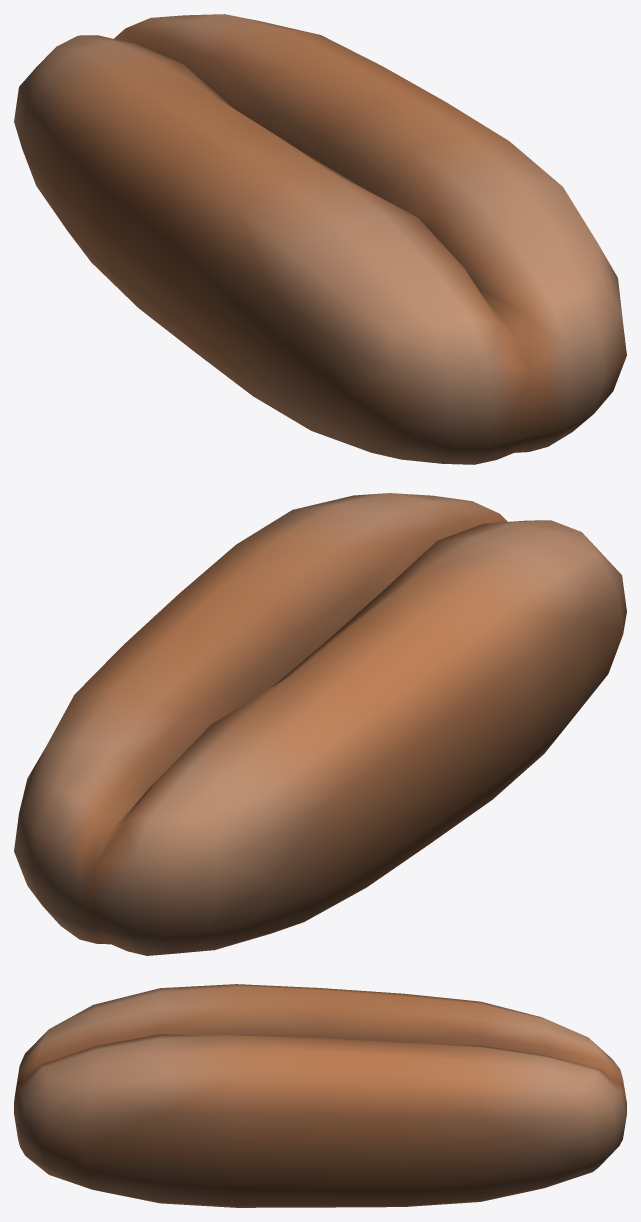
File: trees-seeds-nuts-wheat-grain_v3.glb
3 renders of one model, top to bottom at view 1: azimuth 30°, elevation 25°; view 2: azimuth 150°, elevation 25°; view 3: azimuth 270°, elevation 25°, orthographic. The views are drawn at different scales.
Parts seen in each view (by area): view 1: Wheat Grain_v3; view 2: Wheat Grain_v3; view 3: Wheat Grain_v3.
Boxes of the visible parts, box(x1,y1,x2,y2) form: Wheat Grain_v3: box(14, 14, 626, 464); Wheat Grain_v3: box(14, 493, 626, 955); Wheat Grain_v3: box(14, 984, 626, 1207).
Size of the model in its own units: 0.2978 by 0.2104 by 0.7.
